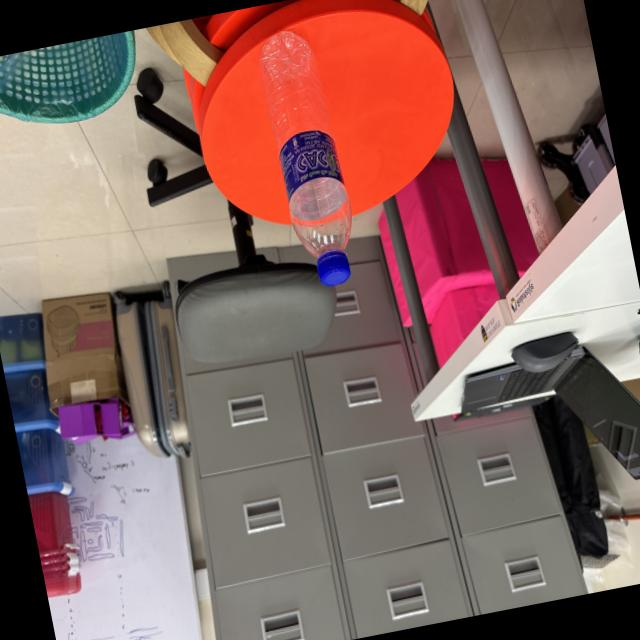plastic_bottle: (248, 20, 371, 298)
